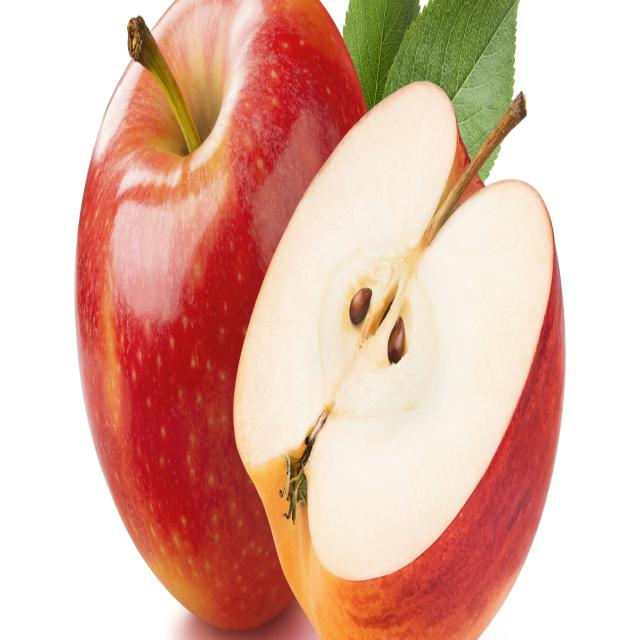manzana: (64, 6, 387, 640), (233, 81, 573, 631)
